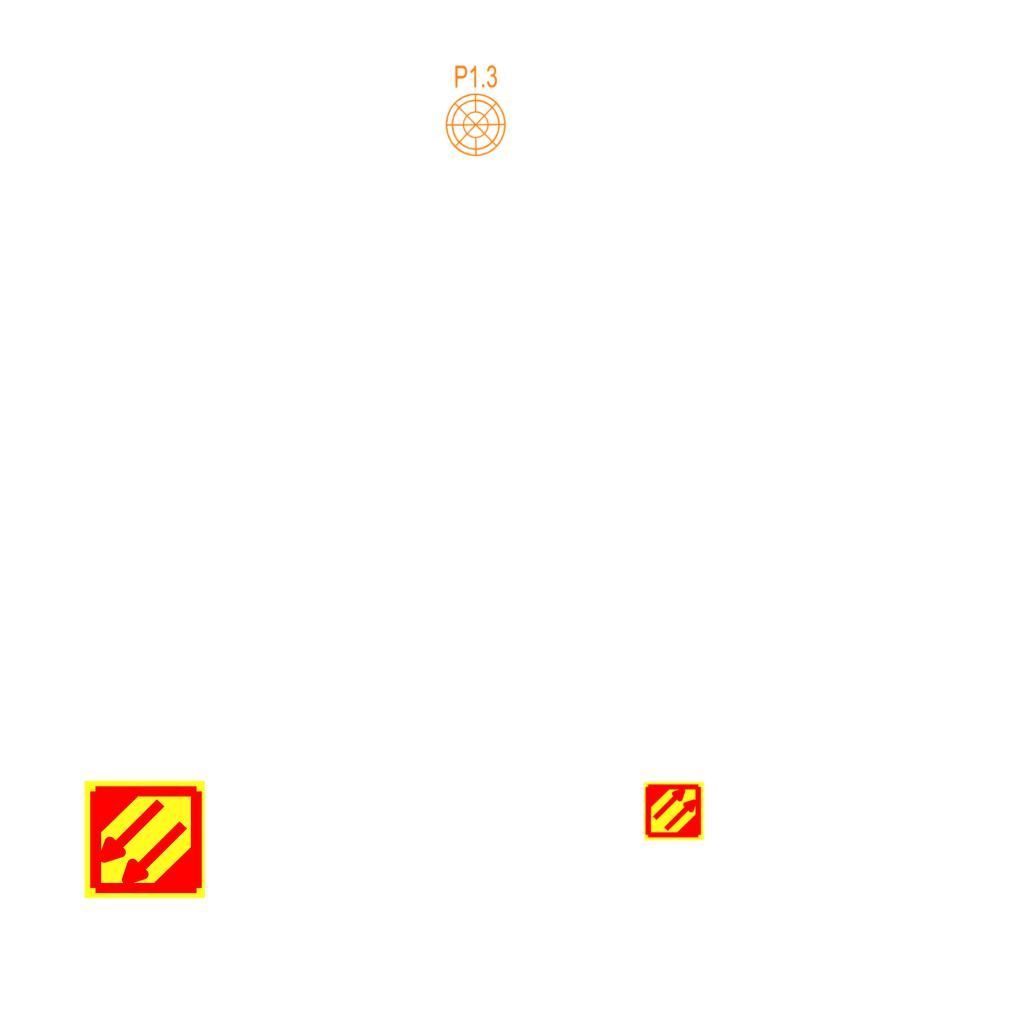ASR_Ansaugrauchmelder: (82, 777, 207, 902), (643, 780, 705, 842)
Aufbaurundleuchte_LED_Treppenhaus: (444, 56, 513, 158)
